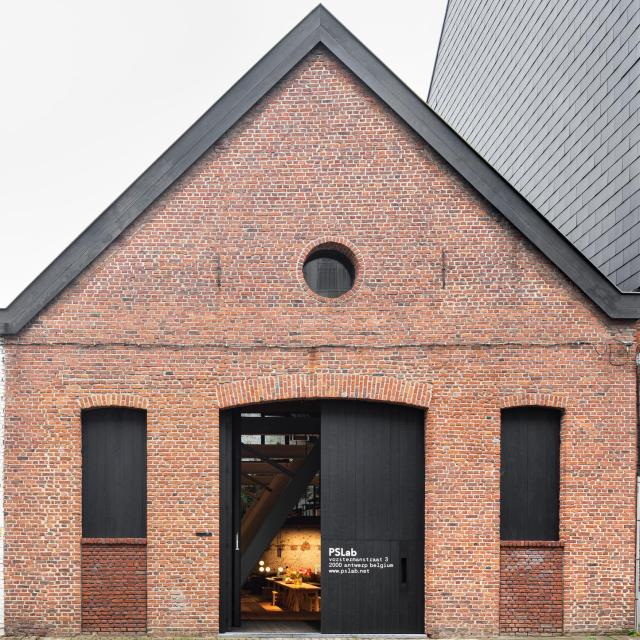door: (217, 400, 423, 638)
wall: (0, 3, 640, 637)
windows: (308, 254, 353, 296)
